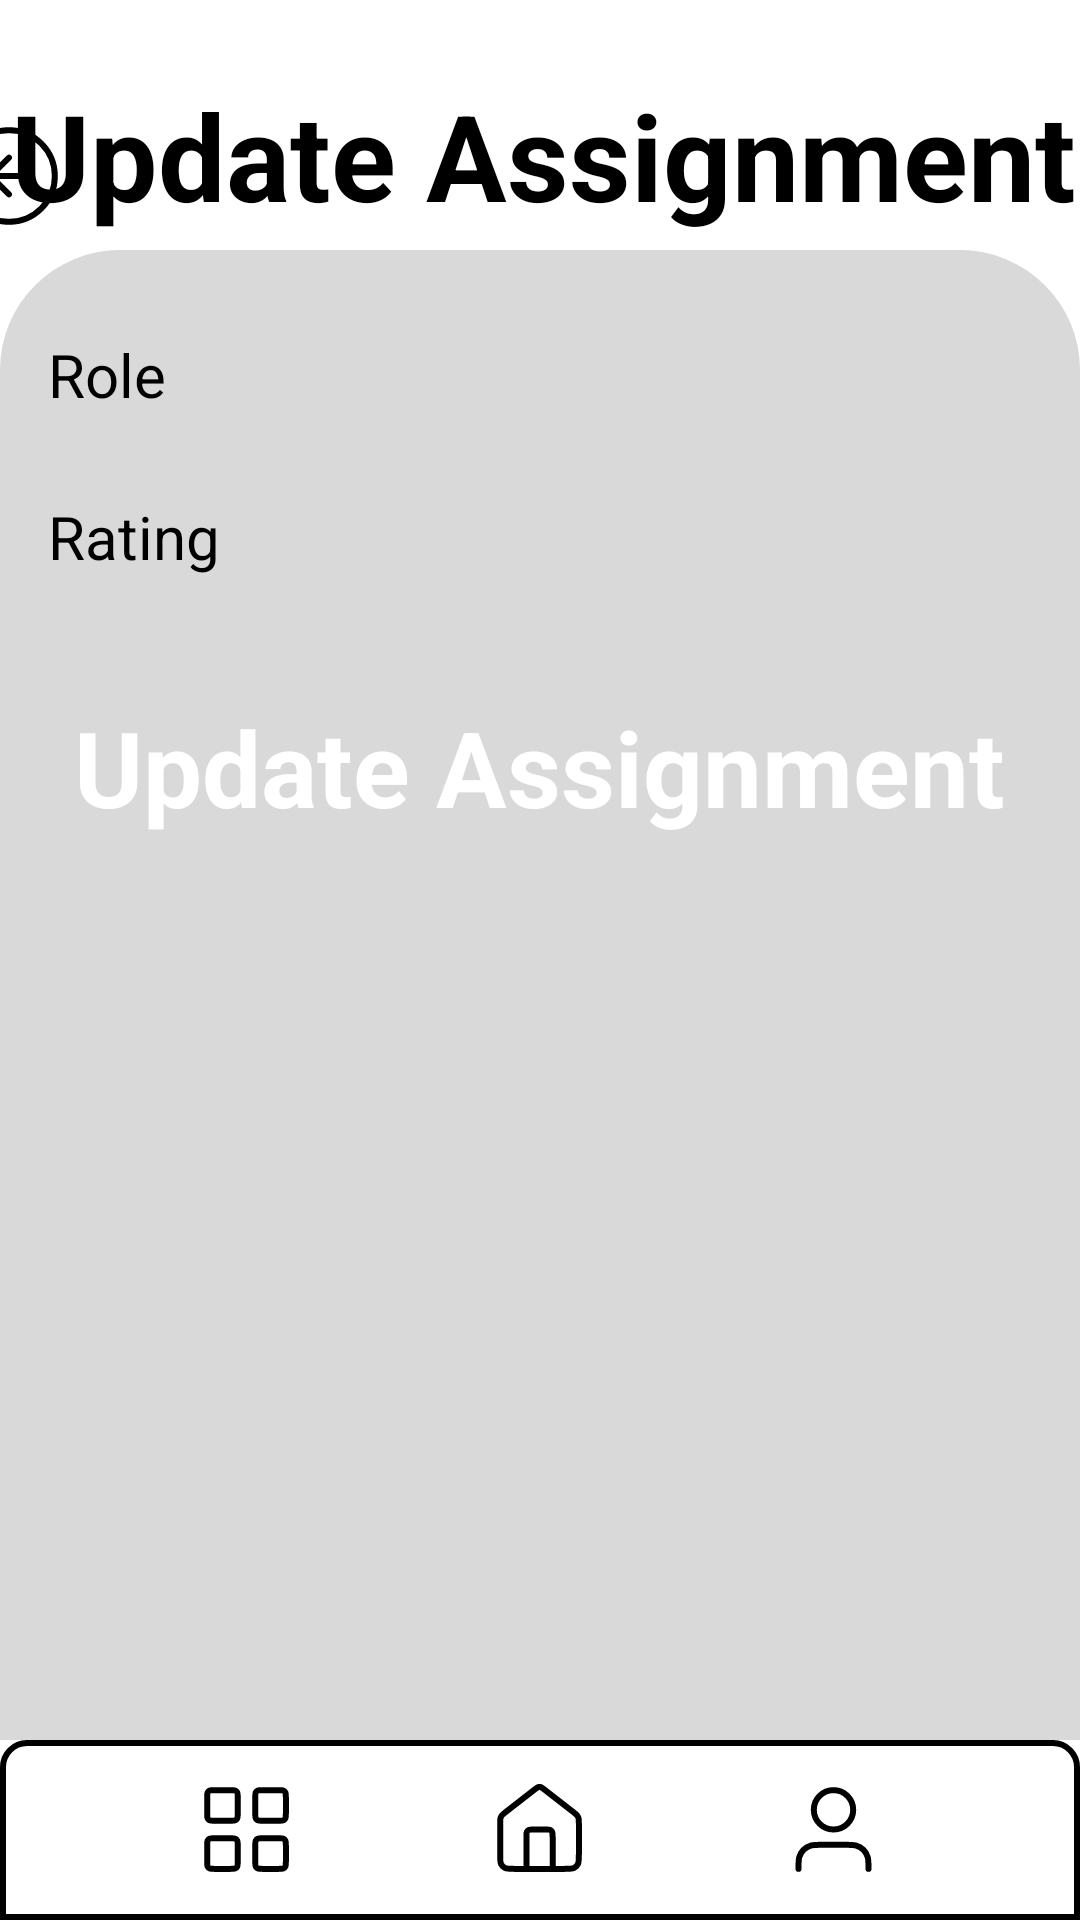

Named icons in this screenshot (1080px x 1920px) and their centers, (x=x, y=y):
grid: (x=246, y=1829)
home: (x=539, y=1828)
user: (x=833, y=1829)
